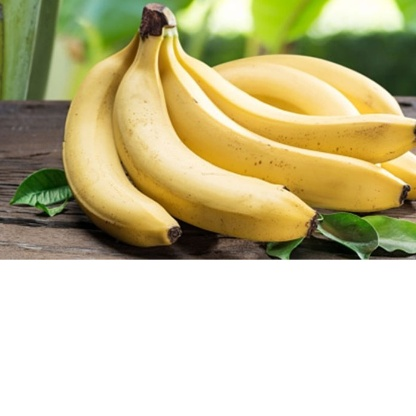chuoi: (56, 6, 410, 252)
